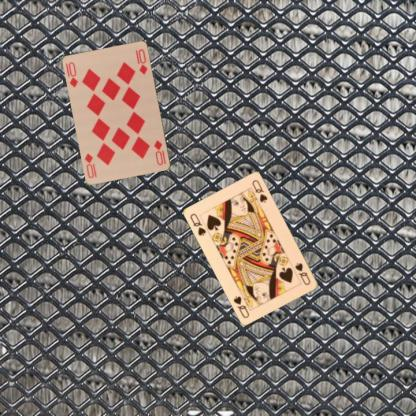10d: (152, 138, 168, 166), (66, 59, 79, 89)
Qs: (292, 260, 312, 287), (188, 211, 208, 237)
